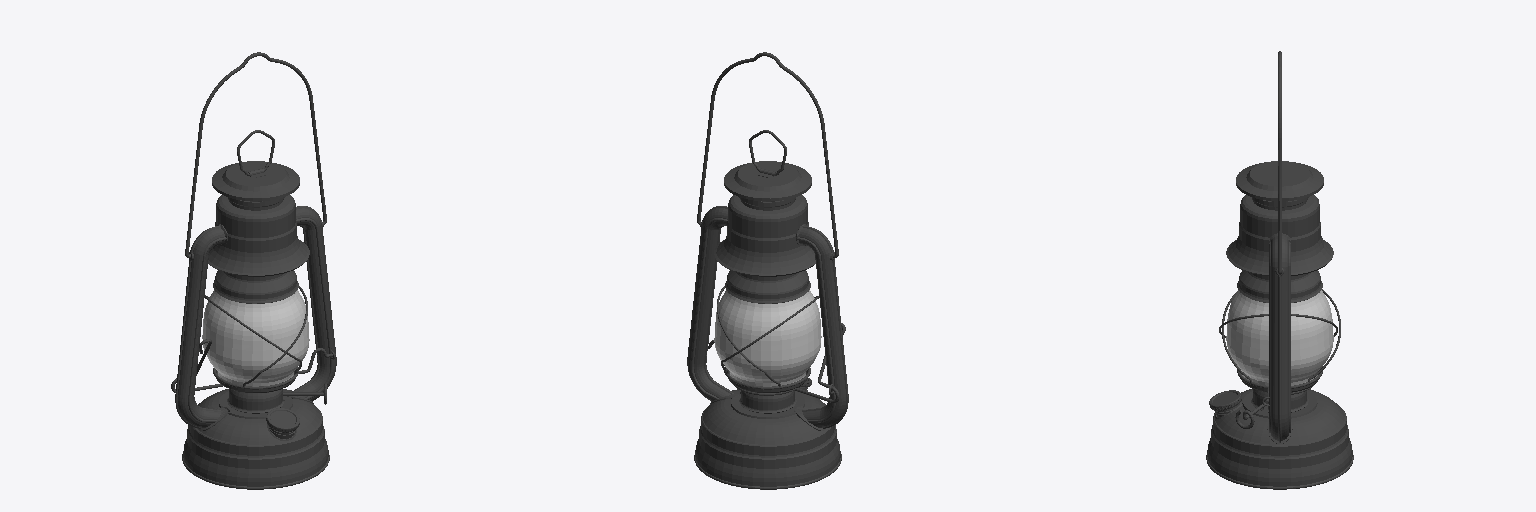
Rendered from Lantern_01.obj.
3 views of the same model, side by side, from view 1: azimuth 30°, elevation 25°; view 2: azimuth 150°, elevation 25°; view 3: azimuth 270°, elevation 25° (orthographic).
Parts seen in each view (by area): view 1: Lantern_01_metal_Mesh, Lantern_01_glass_Mesh.002; view 2: Lantern_01_metal_Mesh, Lantern_01_glass_Mesh.002; view 3: Lantern_01_metal_Mesh, Lantern_01_glass_Mesh.002.
Part boxes in pixels (x1,y1,x2,y2): Lantern_01_metal_Mesh: (171,52,336,489); Lantern_01_glass_Mesh.002: (202,290,309,386); Lantern_01_metal_Mesh: (687,52,848,489); Lantern_01_glass_Mesh.002: (714,290,821,386); Lantern_01_metal_Mesh: (1206,51,1353,489); Lantern_01_glass_Mesh.002: (1226,290,1333,385).
Size of the model in its own units: 0.1221 by 0.2942 by 0.0972.